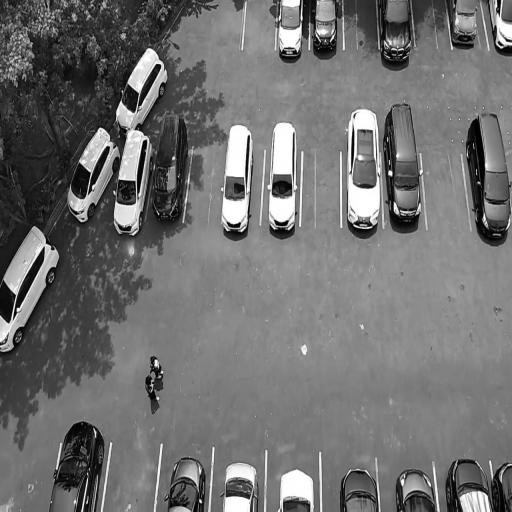Car: (0, 217, 64, 374), (60, 120, 123, 233), (462, 108, 512, 244), (107, 38, 172, 138), (45, 416, 109, 512), (105, 127, 157, 241), (382, 93, 424, 234), (345, 101, 384, 238), (152, 110, 190, 227), (220, 120, 254, 241), (267, 118, 298, 238), (444, 455, 492, 512), (164, 454, 208, 512), (377, 0, 414, 65), (218, 459, 260, 512), (393, 463, 438, 512), (339, 461, 380, 512), (276, 0, 304, 67), (276, 467, 314, 512), (448, 0, 480, 49), (311, 0, 340, 53), (488, 0, 512, 60), (491, 454, 512, 511)
Space Available: (102, 440, 162, 512), (421, 152, 471, 230), (183, 142, 226, 221), (300, 148, 342, 227), (411, 0, 452, 47), (242, 0, 278, 50), (343, 0, 379, 48)
